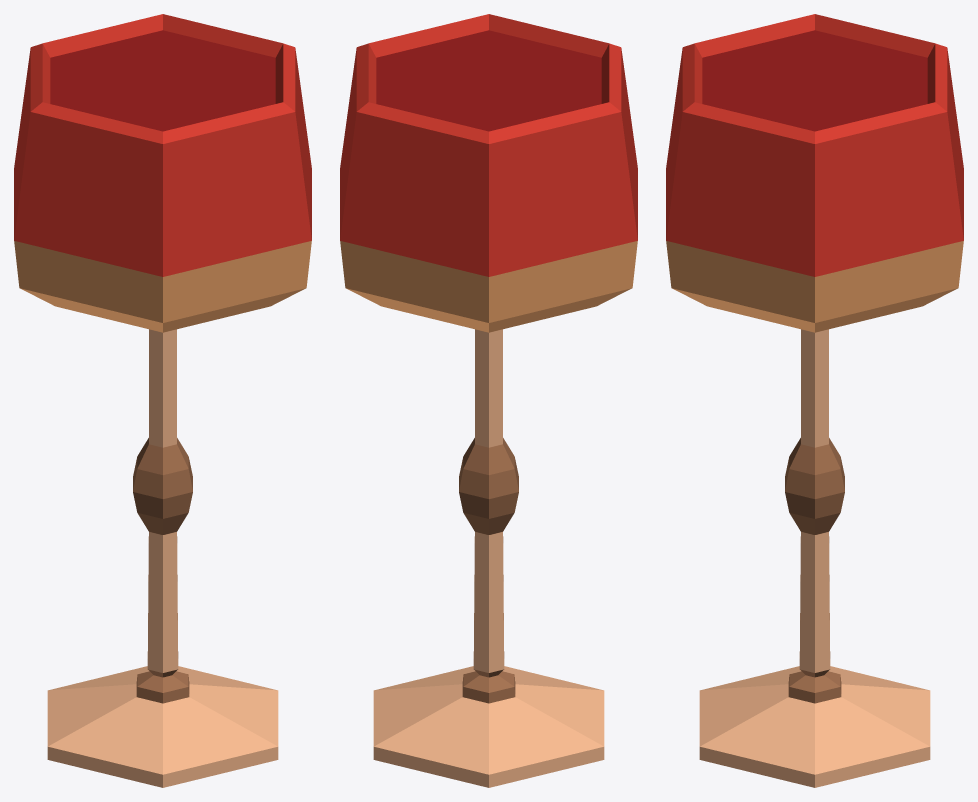
The model's file is WF_LP_HT_Props_Drink.004.fbx.
3 renders of one model, left to right at view 1: azimuth 30°, elevation 25°; view 2: azimuth 150°, elevation 25°; view 3: azimuth 270°, elevation 25°, orthographic.
Parts seen in each view (by area): view 1: WF_LP_HT_Props_Drink.004; view 2: WF_LP_HT_Props_Drink.004; view 3: WF_LP_HT_Props_Drink.004.
Part boxes in pixels (bbox=[...]): WF_LP_HT_Props_Drink.004: bbox=[14, 14, 311, 787]; WF_LP_HT_Props_Drink.004: bbox=[340, 14, 637, 787]; WF_LP_HT_Props_Drink.004: bbox=[666, 14, 963, 787].
Size of the model in its own units: 0.1338 by 0.2829 by 0.1159.
